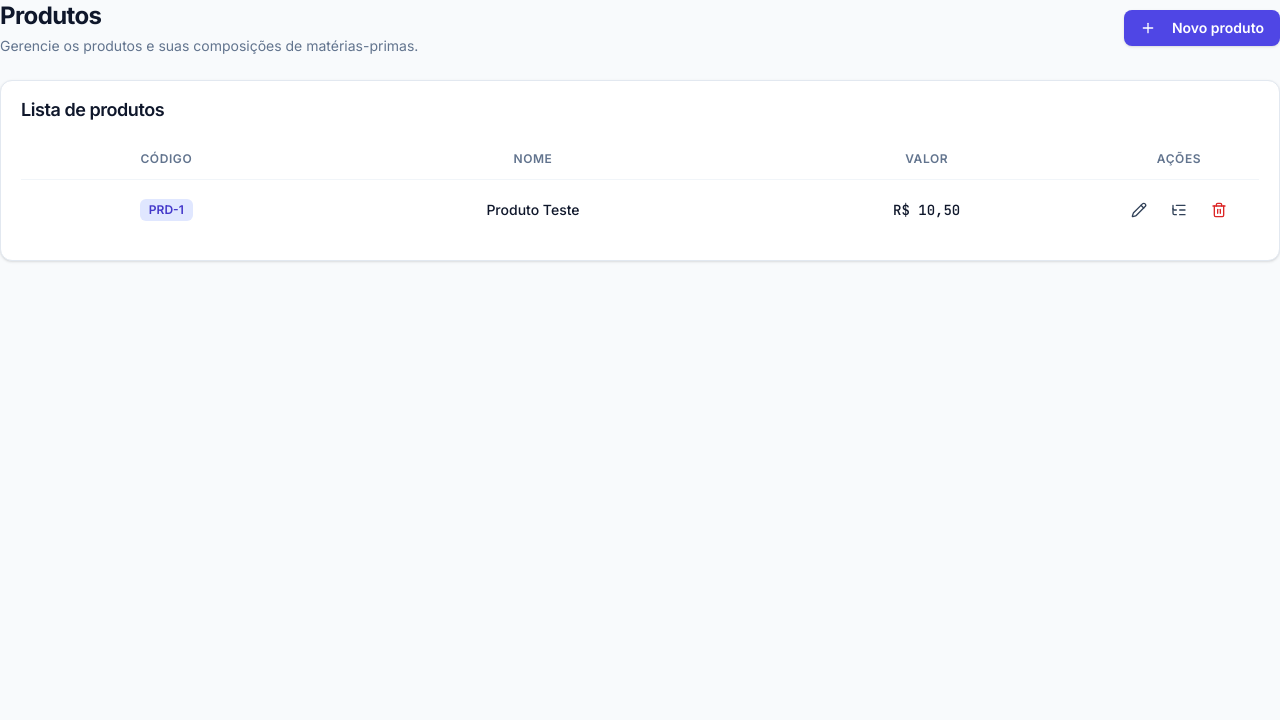
ProductsPage › opens CompositionDialog when clicking composition button
Expected: the text "Produto Teste" is shown, left=312, top=179, right=754, bottom=240
Click the button named "Composição": [1179, 210] box left=1161, top=192, right=1197, bottom=228
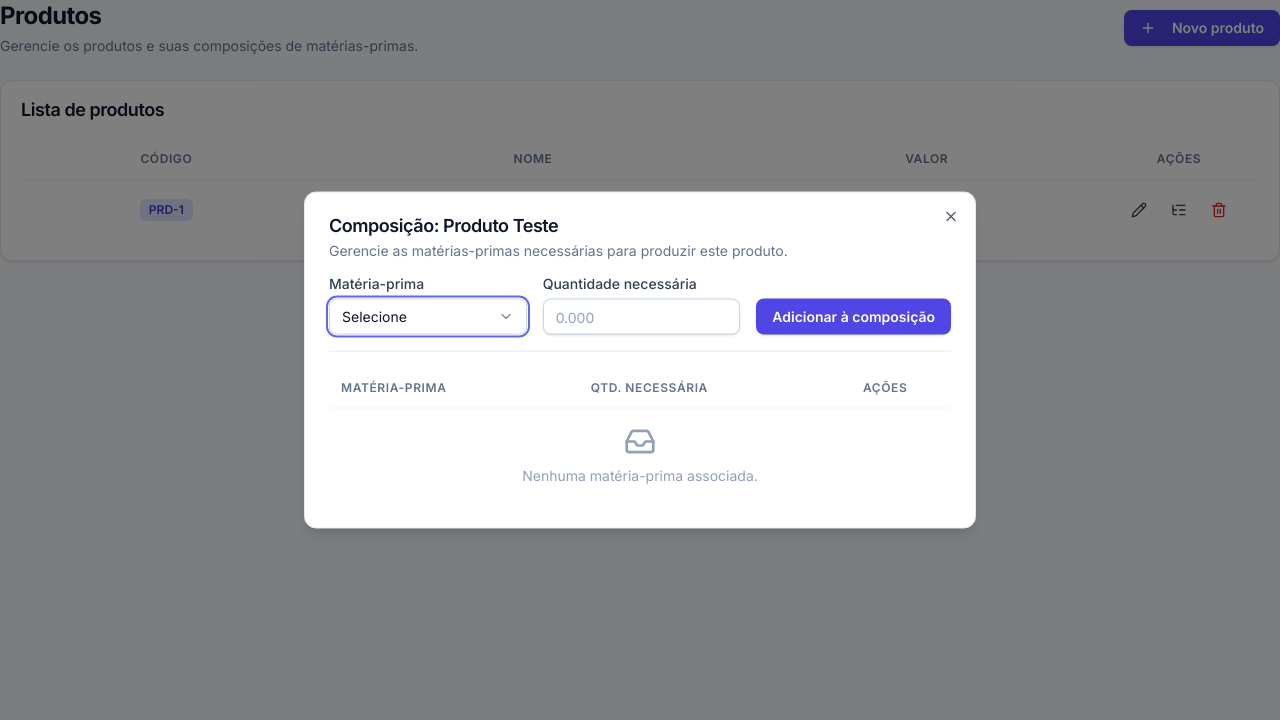
Expected: the dialog is shown, left=304, top=192, right=976, bottom=528
Expected: the heading "Composição: Produto Teste" is shown, left=329, top=214, right=558, bottom=236
